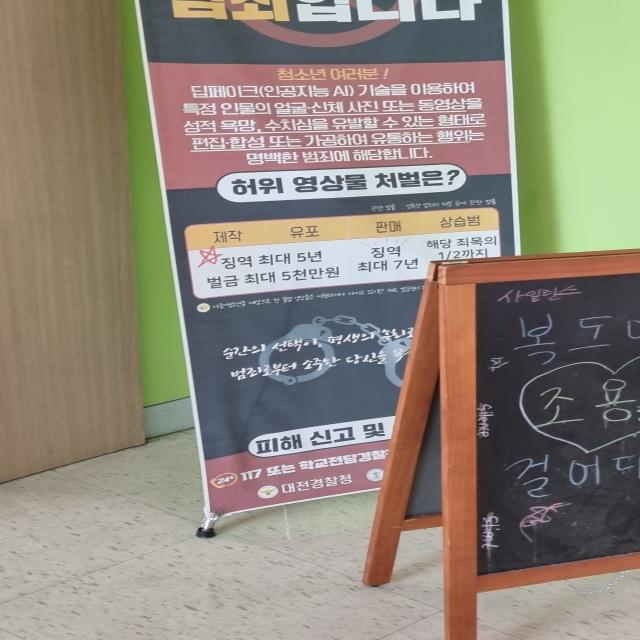logo: (366, 468, 388, 483)
